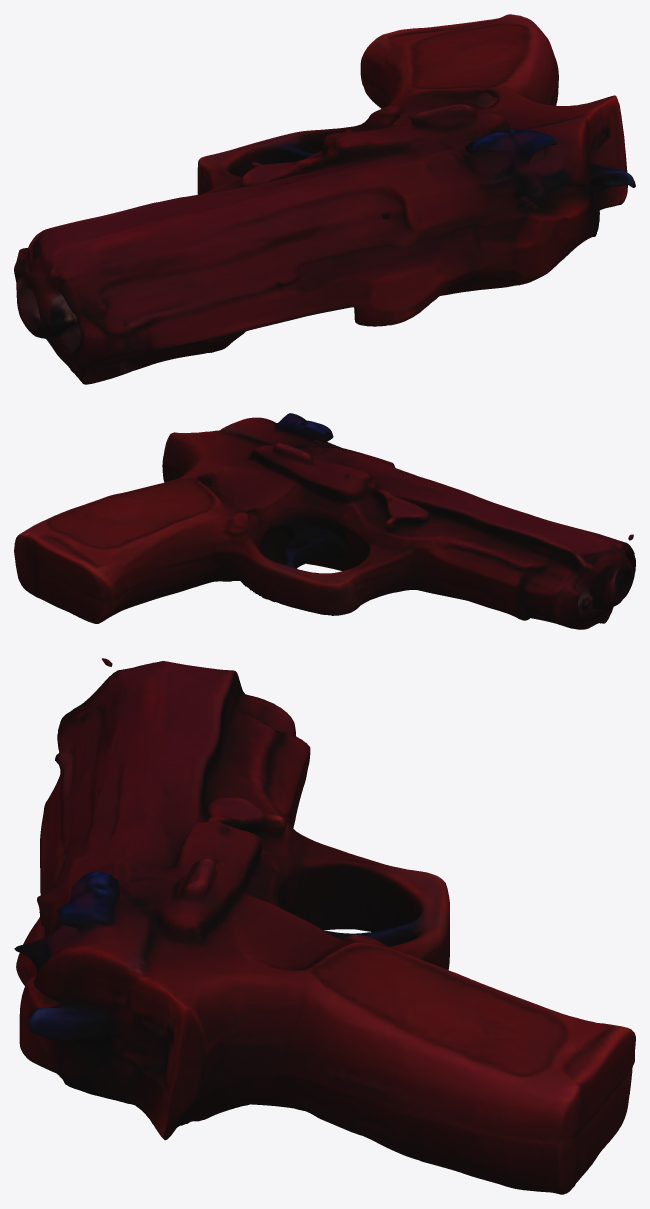
Rendered from obj10_ours.glb.
3 renders of one model, top to bottom at view 1: azimuth 30°, elevation 25°; view 2: azimuth 150°, elevation 25°; view 3: azimuth 270°, elevation 25°, orthographic. The views are drawn at different scales.
Visible parts, largest first — view 1: n1; view 2: n1; view 3: n1.
Boxes of the visible parts, x1,y1,x2,y2 form: n1: (14, 14, 635, 384); n1: (14, 413, 635, 629); n1: (14, 658, 635, 1194).
Bounding box in the file's own units: 0.903 × 0.2116 × 0.5584.
